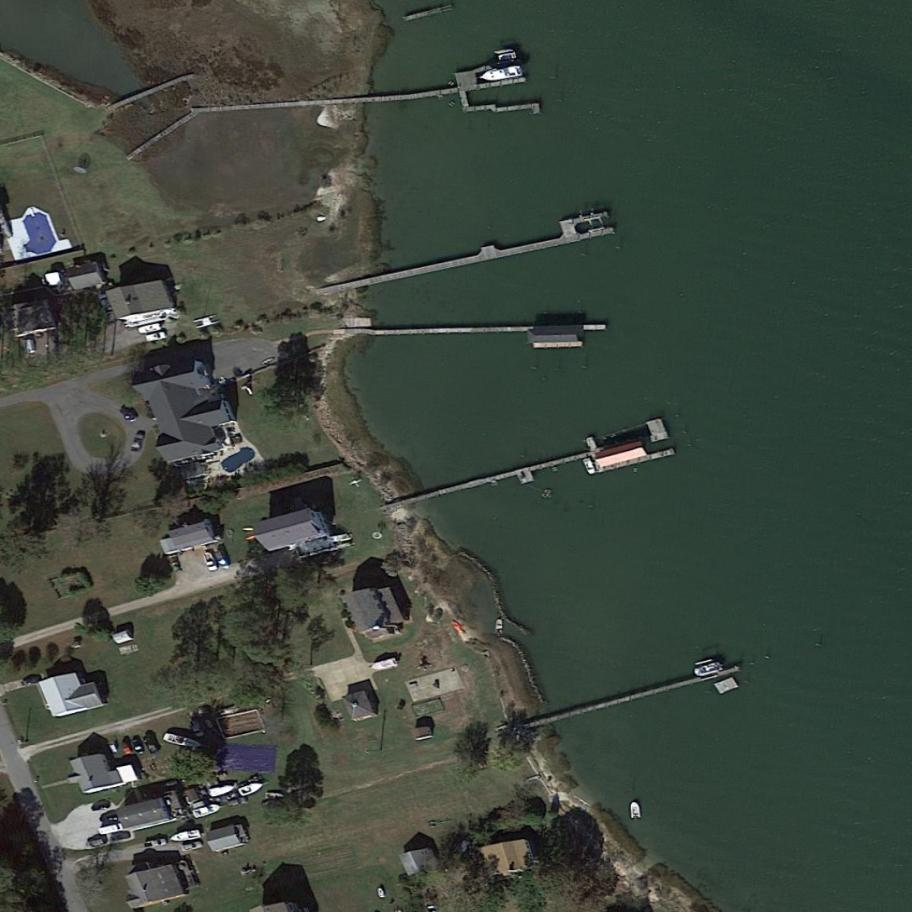ship: (129, 316, 170, 339), (160, 730, 203, 751), (480, 64, 525, 83), (691, 657, 725, 680), (366, 656, 401, 674), (487, 611, 509, 638), (192, 801, 223, 820), (168, 827, 204, 843), (206, 781, 237, 799), (238, 780, 265, 798), (371, 882, 388, 902), (630, 800, 643, 820), (261, 792, 284, 802)
small-vehicle: (116, 401, 139, 427), (95, 820, 126, 838), (214, 548, 232, 571), (130, 430, 146, 454), (143, 329, 168, 344), (143, 735, 160, 756), (130, 737, 147, 758), (202, 550, 218, 572), (180, 839, 205, 853), (143, 837, 168, 850), (120, 743, 135, 761), (86, 837, 108, 849), (106, 739, 120, 757), (111, 830, 131, 842)
